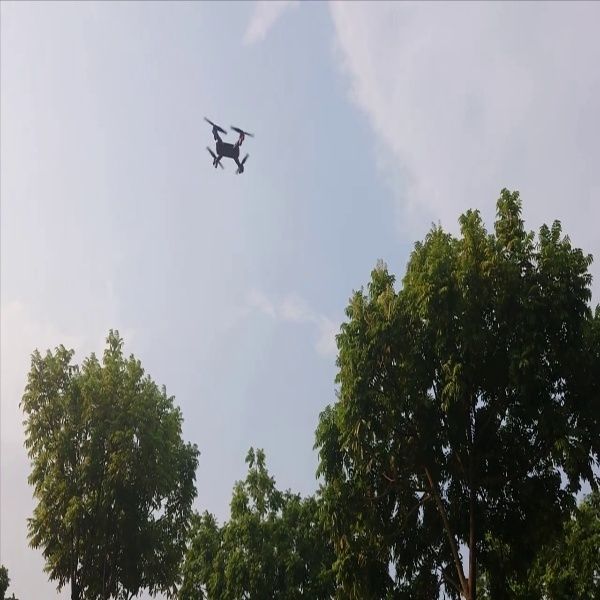drone: (197, 110, 256, 184)
